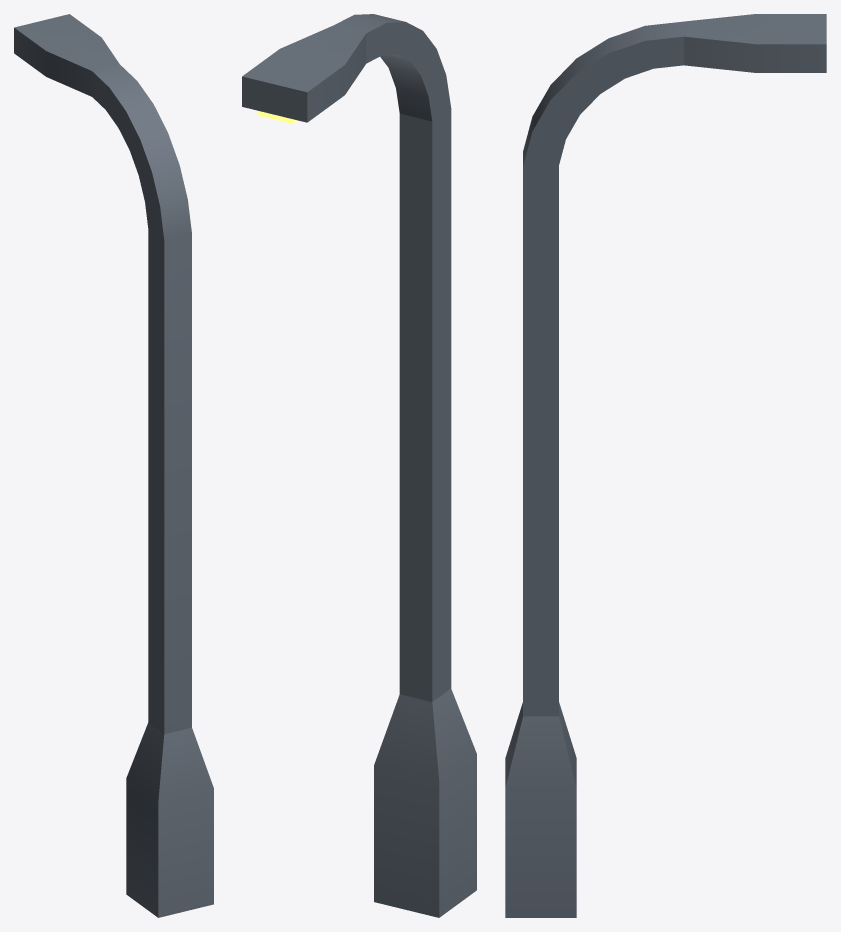
Rendered from ap_farola.glb.
3 views of the same model, side by side, from view 1: azimuth 30°, elevation 25°; view 2: azimuth 150°, elevation 25°; view 3: azimuth 270°, elevation 25° (orthographic). The views are drawn at different scales.
Visible parts, largest first — view 1: light-curved; view 2: light-curved; view 3: light-curved.
Boxes of the visible parts, x1=… form: light-curved: x1=14, y1=14, x2=213, y2=917; light-curved: x1=242, y1=14, x2=476, y2=917; light-curved: x1=505, y1=14, x2=826, y2=917.
Bounding box in the file's own units: 0.5 × 6.75 × 2.25.
